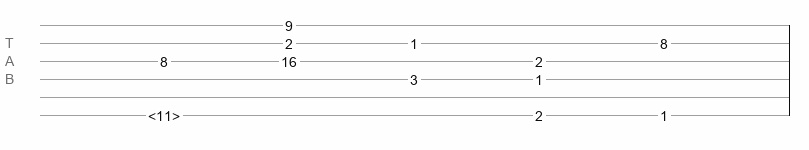1: (410, 36, 418, 46), (535, 72, 543, 82), (660, 108, 668, 118)
16: (281, 54, 297, 64)
2: (285, 36, 293, 46), (535, 54, 543, 64), (535, 108, 543, 118)
3: (410, 72, 418, 82)
8: (160, 54, 168, 64), (660, 36, 668, 46)
9: (285, 18, 293, 28)
harmonic: (148, 108, 180, 118)
